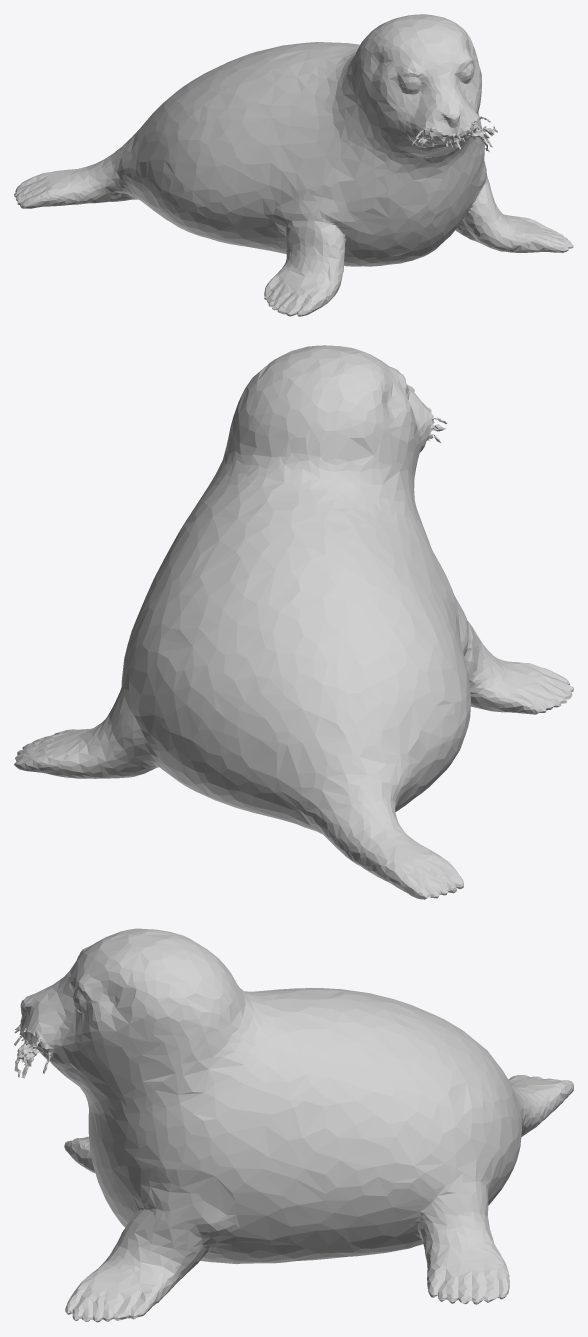
The model's file is zeehond.glb.
3 views of the same model, one above another, from view 1: azimuth 30°, elevation 25°; view 2: azimuth 150°, elevation 25°; view 3: azimuth 270°, elevation 25° (orthographic). The views are drawn at different scales.
Parts seen in each view (by area): view 1: zeehond; view 2: zeehond; view 3: zeehond.
Part boxes in pixels (x1,y1,x2,y2): zeehond: (14, 14, 573, 316); zeehond: (14, 345, 573, 899); zeehond: (14, 928, 573, 1322).
Bounding box in the file's own units: 1.96 × 1.18 × 1.94.
Materials: 1 (1 with a texture image).
